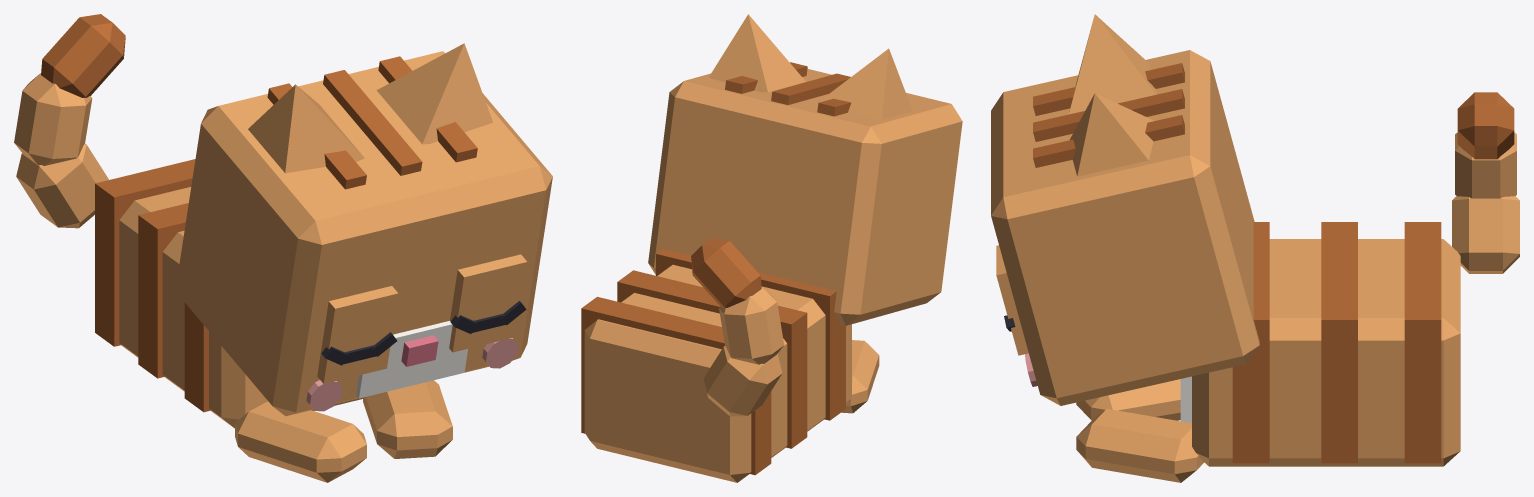
File: CleanACat_Cat_Muffin_Loaf_Lite.fbx
3 views of the same model, side by side, from view 1: azimuth 30°, elevation 25°; view 2: azimuth 150°, elevation 25°; view 3: azimuth 270°, elevation 25° (orthographic). The views are drawn at different scales.
Visible parts, largest first — view 1: CleanACat_Cat_Muffin_Loaf_Lite_Head, CleanACat_Cat_Muffin_Loaf_Lite_Body, CleanACat_Cat_Muffin_Loaf_Lite_Tail, CleanACat_Cat_Muffin_Loaf_Lite_Paws, CleanACat_Cat_Muffin_Loaf_Lite_EarL, CleanACat_Cat_Muffin_Loaf_Lite_Eye2, CleanACat_Cat_Muffin_Loaf_Lite_Eye1, CleanACat_Cat_Muffin_Loaf_Lite_EarR; view 2: CleanACat_Cat_Muffin_Loaf_Lite_Head, CleanACat_Cat_Muffin_Loaf_Lite_Body, CleanACat_Cat_Muffin_Loaf_Lite_Tail, CleanACat_Cat_Muffin_Loaf_Lite_EarL, CleanACat_Cat_Muffin_Loaf_Lite_EarR, CleanACat_Cat_Muffin_Loaf_Lite_Paws; view 3: CleanACat_Cat_Muffin_Loaf_Lite_Head, CleanACat_Cat_Muffin_Loaf_Lite_Body, CleanACat_Cat_Muffin_Loaf_Lite_Tail, CleanACat_Cat_Muffin_Loaf_Lite_Paws, CleanACat_Cat_Muffin_Loaf_Lite_EarL, CleanACat_Cat_Muffin_Loaf_Lite_EarR, CleanACat_Cat_Muffin_Loaf_Lite_Eye1.
Boxes of the visible parts, box(x1,y1,x2,y2) form: CleanACat_Cat_Muffin_Loaf_Lite_Head: box(175, 51, 552, 416); CleanACat_Cat_Muffin_Loaf_Lite_Body: box(95, 159, 362, 428); CleanACat_Cat_Muffin_Loaf_Lite_Tail: box(14, 14, 125, 228); CleanACat_Cat_Muffin_Loaf_Lite_Paws: box(235, 380, 452, 482); CleanACat_Cat_Muffin_Loaf_Lite_EarL: box(376, 43, 492, 144); CleanACat_Cat_Muffin_Loaf_Lite_Eye2: box(317, 286, 398, 383); CleanACat_Cat_Muffin_Loaf_Lite_Eye1: box(449, 254, 527, 352); CleanACat_Cat_Muffin_Loaf_Lite_EarR: box(248, 84, 364, 173); CleanACat_Cat_Muffin_Loaf_Lite_Head: box(648, 62, 962, 325); CleanACat_Cat_Muffin_Loaf_Lite_Body: box(581, 249, 851, 482); CleanACat_Cat_Muffin_Loaf_Lite_Tail: box(691, 238, 783, 416); CleanACat_Cat_Muffin_Loaf_Lite_EarL: box(709, 14, 805, 92); CleanACat_Cat_Muffin_Loaf_Lite_EarR: box(816, 48, 912, 119); CleanACat_Cat_Muffin_Loaf_Lite_Paws: box(841, 340, 879, 413); CleanACat_Cat_Muffin_Loaf_Lite_Head: box(991, 50, 1259, 405); CleanACat_Cat_Muffin_Loaf_Lite_Body: box(1180, 222, 1460, 466); CleanACat_Cat_Muffin_Loaf_Lite_Tail: box(1452, 92, 1519, 273); CleanACat_Cat_Muffin_Loaf_Lite_Paws: box(1076, 379, 1203, 482); CleanACat_Cat_Muffin_Loaf_Lite_EarL: box(1070, 93, 1154, 176); CleanACat_Cat_Muffin_Loaf_Lite_EarR: box(1069, 14, 1156, 114); CleanACat_Cat_Muffin_Loaf_Lite_Eye1: box(996, 245, 1028, 355).
Size of the model in its own units: 1.11 by 1.52 by 1.87.
Materials: 1 (1 with a texture image).
